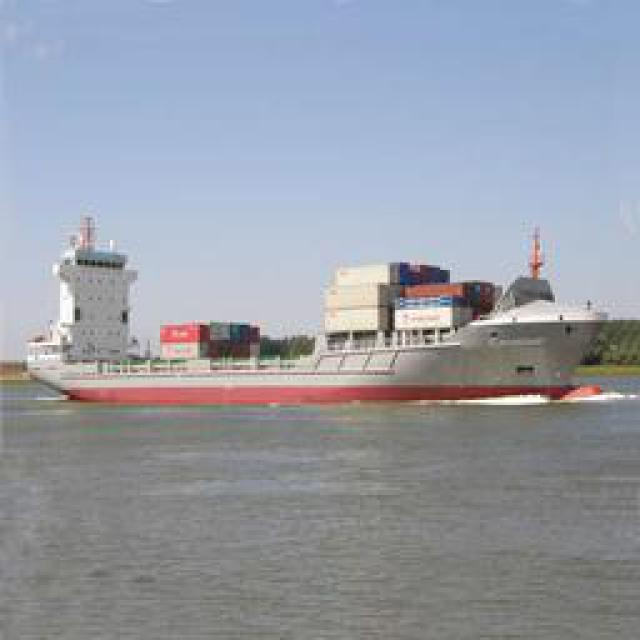Ship: (28, 224, 623, 404)
